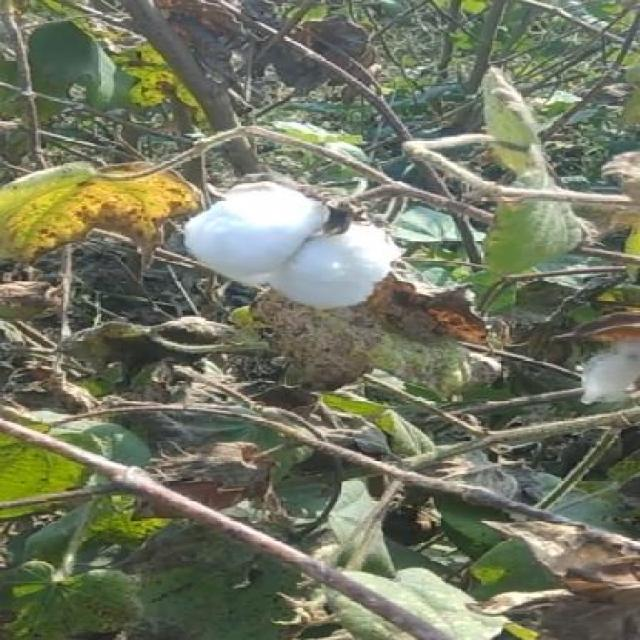cotton_ready: (160, 173, 412, 330)
